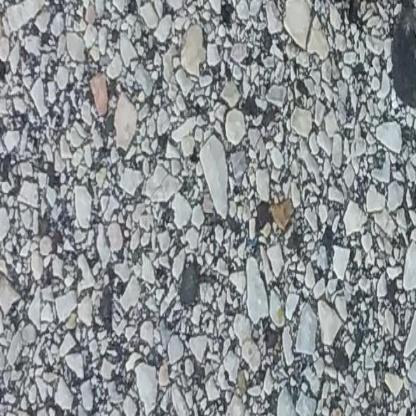Cracks: (308, 0, 393, 32)
